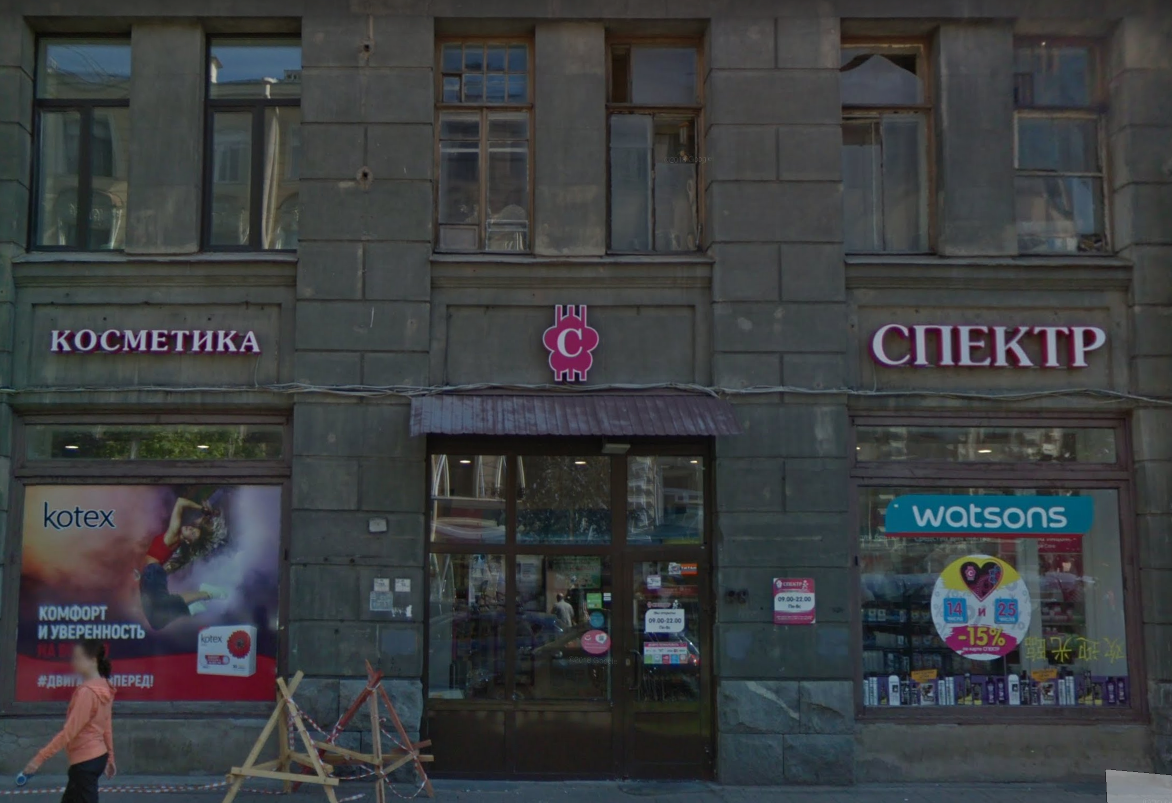signboard: (867, 311, 1114, 385), (38, 320, 276, 362), (528, 296, 605, 387)
win_ad: (21, 482, 276, 698), (884, 495, 1094, 665)
window: (853, 416, 1148, 720), (15, 413, 283, 709), (421, 451, 707, 704), (28, 27, 133, 258), (430, 30, 535, 255), (606, 30, 706, 258), (202, 29, 300, 250), (1014, 35, 1102, 261), (844, 38, 933, 258)
